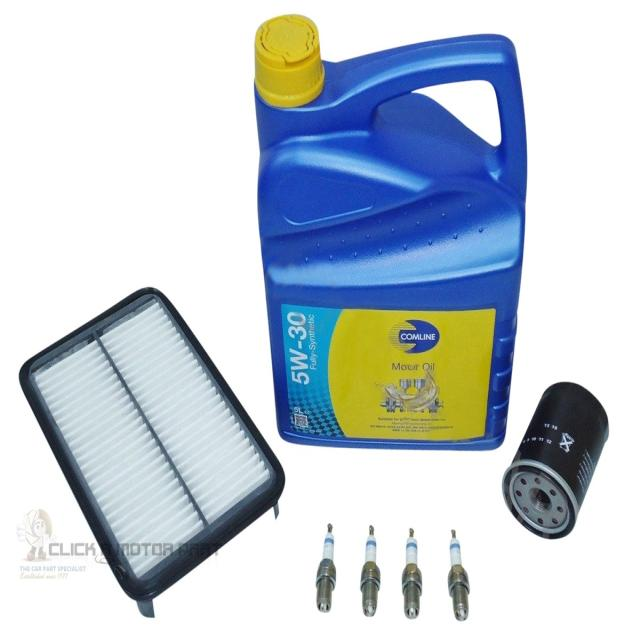air_filter: (13, 279, 300, 623)
motor_oil: (251, 17, 530, 451)
oil_filter: (491, 381, 623, 550)
